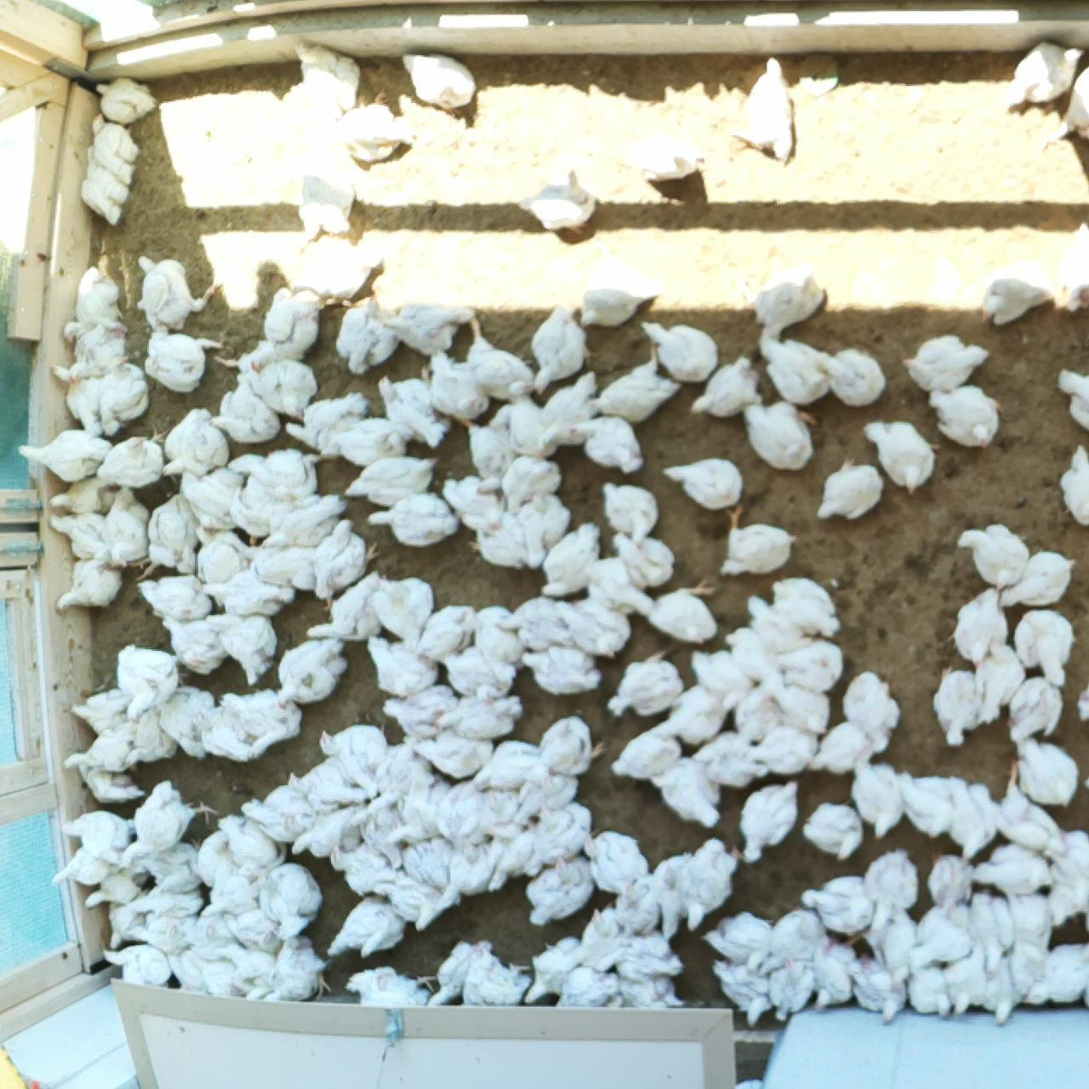chicken: (120, 780, 220, 869), (580, 340, 682, 421), (728, 54, 801, 164), (738, 253, 827, 343), (135, 251, 224, 336), (454, 314, 540, 401), (992, 760, 1064, 861), (994, 37, 1085, 115), (219, 689, 314, 762), (674, 833, 744, 931), (286, 153, 360, 245), (860, 416, 944, 497), (213, 353, 320, 416), (113, 640, 191, 726), (330, 89, 417, 166), (280, 239, 383, 303), (574, 259, 664, 332), (399, 722, 499, 787), (270, 629, 350, 710), (248, 281, 320, 371), (251, 860, 328, 944), (332, 289, 403, 378), (604, 651, 688, 726), (523, 794, 596, 880), (315, 718, 391, 800), (135, 492, 204, 581), (305, 570, 389, 643), (900, 329, 991, 396), (61, 262, 130, 350), (324, 889, 410, 959), (375, 863, 454, 939), (338, 453, 438, 513), (742, 398, 824, 471), (380, 295, 479, 355), (716, 504, 798, 576), (361, 736, 432, 819), (318, 515, 380, 610), (531, 301, 592, 397), (151, 678, 217, 765), (734, 779, 804, 861), (652, 756, 727, 832), (957, 519, 1033, 594), (516, 169, 601, 236), (552, 595, 638, 661), (383, 767, 452, 849), (425, 937, 493, 1020), (622, 120, 705, 188), (376, 375, 451, 450), (488, 590, 577, 653), (141, 325, 222, 394), (923, 381, 1004, 450), (20, 424, 113, 483), (767, 571, 843, 643), (750, 908, 828, 978), (259, 494, 347, 556), (215, 816, 294, 885), (520, 854, 591, 930), (366, 574, 436, 651), (439, 832, 506, 912), (759, 336, 839, 403), (638, 319, 719, 385), (978, 262, 1059, 328), (863, 851, 917, 950), (261, 934, 337, 1004), (201, 564, 296, 620), (1010, 737, 1086, 807), (234, 781, 312, 849), (363, 491, 457, 547), (161, 406, 235, 477), (192, 520, 252, 607), (286, 803, 365, 869), (316, 415, 416, 467), (58, 719, 139, 783), (206, 611, 276, 685), (971, 633, 1025, 728), (210, 375, 282, 446), (698, 904, 779, 967), (456, 948, 533, 1014), (651, 683, 734, 744), (285, 393, 368, 454), (904, 902, 975, 972), (229, 450, 324, 502), (95, 351, 153, 436), (534, 373, 598, 450), (540, 518, 603, 596), (642, 584, 720, 647), (580, 830, 650, 900), (534, 714, 608, 780), (514, 762, 583, 832), (757, 663, 828, 731), (706, 953, 772, 1026), (284, 758, 370, 814), (520, 934, 585, 1008), (482, 814, 539, 898), (1014, 609, 1076, 686), (817, 342, 886, 411), (55, 808, 140, 864), (660, 455, 745, 511), (399, 49, 477, 110), (292, 37, 363, 104), (953, 585, 1011, 667), (850, 755, 905, 841), (581, 550, 650, 618), (423, 351, 488, 423), (425, 772, 484, 851), (96, 429, 171, 491), (802, 875, 878, 936), (816, 457, 883, 526), (612, 718, 684, 782), (520, 641, 602, 697), (382, 683, 461, 741), (435, 687, 528, 736), (694, 354, 763, 420), (602, 480, 667, 550), (54, 551, 125, 615), (130, 832, 207, 891), (845, 950, 907, 1023), (439, 641, 517, 699), (340, 966, 436, 1013), (517, 490, 572, 572), (842, 671, 899, 750), (1022, 940, 1089, 1007), (189, 701, 257, 767), (177, 462, 247, 526), (100, 483, 153, 567), (486, 396, 556, 459), (1000, 549, 1076, 607), (85, 113, 147, 184), (949, 773, 999, 861), (800, 795, 865, 862), (897, 768, 959, 838), (740, 723, 823, 775), (470, 738, 544, 796), (1006, 672, 1068, 741), (365, 635, 435, 696), (968, 885, 1015, 975), (350, 785, 402, 866), (974, 844, 1053, 897), (932, 666, 983, 748), (693, 733, 766, 790), (573, 416, 646, 473), (159, 614, 228, 674), (437, 470, 504, 531), (76, 146, 129, 223), (463, 595, 521, 665), (68, 685, 139, 742), (468, 778, 529, 844), (203, 860, 270, 920), (938, 946, 992, 1020), (45, 470, 123, 521), (611, 931, 682, 987), (60, 319, 126, 379), (610, 528, 678, 586), (50, 363, 104, 436), (328, 841, 397, 898), (240, 539, 318, 589), (462, 421, 516, 493), (571, 903, 627, 972), (48, 505, 115, 562), (809, 936, 859, 1012), (124, 704, 179, 773), (470, 507, 530, 570), (777, 640, 846, 694), (72, 754, 145, 805), (872, 905, 923, 978), (414, 600, 476, 660), (808, 721, 872, 779), (121, 881, 205, 924), (92, 73, 160, 126), (101, 940, 173, 990), (686, 647, 745, 708), (222, 943, 278, 1007), (280, 78, 339, 138), (229, 468, 278, 540), (1047, 66, 1089, 150), (137, 573, 207, 623), (217, 904, 284, 956), (127, 910, 198, 959), (974, 953, 1023, 1024), (177, 902, 238, 959), (655, 846, 691, 942), (608, 968, 683, 1014), (1052, 442, 1089, 533), (502, 454, 562, 510), (766, 959, 816, 1026), (734, 684, 785, 749), (393, 834, 453, 888), (50, 846, 120, 892), (1056, 216, 1089, 313), (746, 597, 804, 652), (1003, 890, 1056, 950), (86, 865, 152, 912), (609, 877, 657, 941), (161, 949, 220, 1001), (186, 949, 245, 1001), (196, 831, 247, 891), (1038, 869, 1089, 927), (900, 963, 951, 1021), (554, 966, 621, 1010), (1004, 935, 1047, 1002), (105, 889, 152, 950), (728, 630, 778, 686), (1054, 364, 1089, 434), (1046, 829, 1089, 885), (927, 852, 972, 902)
